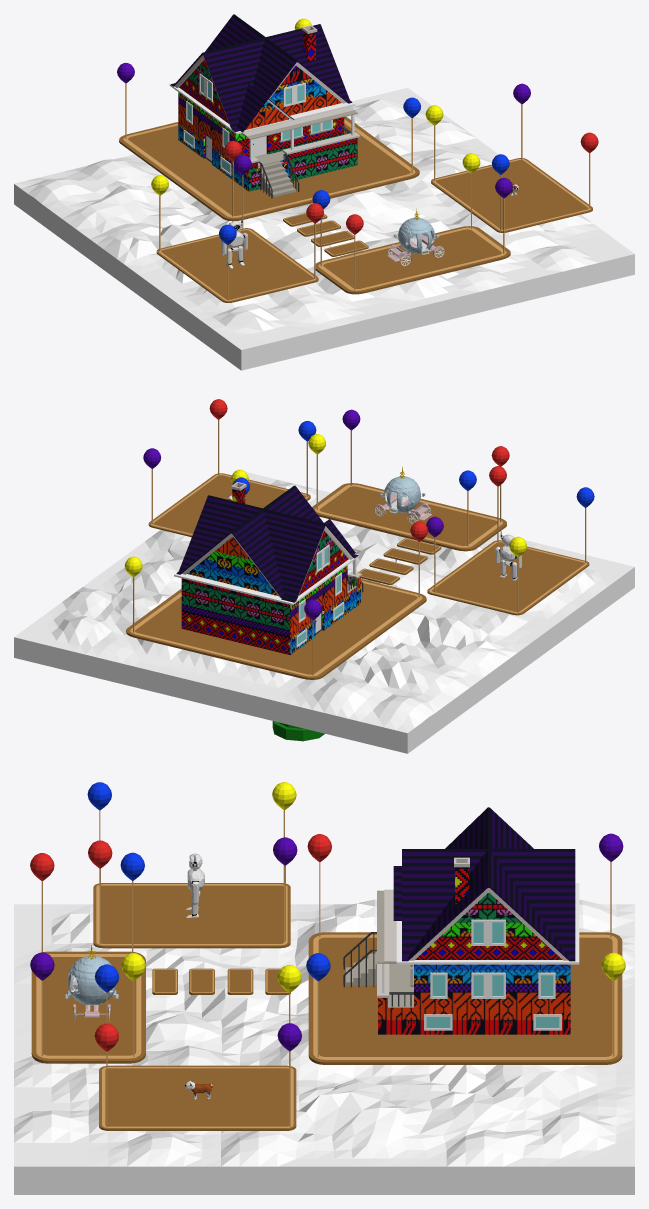
The picture shows the model from 3 angles, top to bottom: view 1: azimuth 30°, elevation 25°; view 2: azimuth 150°, elevation 25°; view 3: azimuth 270°, elevation 25°; orthographic projection. The views are drawn at different scales.
Parts seen in each view (by area): view 1: Cube.013, Cube.966, VEHICLES_FANTASY_CARRIAGE, OBJRANDOM_PLATZEEBOT; view 2: Cube.013, Cube.966, VEHICLES_FANTASY_CARRIAGE, OBJRANDOM_PLATZEEBOT, UNDERGROUND_PIPES; view 3: Cube.013, Cube.966, VEHICLES_FANTASY_CARRIAGE, OBJRANDOM_PLATZEEBOT.
Part boxes in pixels (<box>): Cube.013: <box>14,18,634,370</box>; Cube.966: <box>169,14,360,198</box>; VEHICLES_FANTASY_CARRIAGE: <box>387,208,444,266</box>; OBJRANDOM_PLATZEEBOT: <box>221,216,247,268</box>; Cube.013: <box>14,399,634,753</box>; Cube.966: <box>174,482,363,655</box>; VEHICLES_FANTASY_CARRIAGE: <box>374,467,431,524</box>; OBJRANDOM_PLATZEEBOT: <box>495,530,521,580</box>; UNDERGROUND_PIPES: <box>272,721,324,741</box>; Cube.013: <box>14,782,634,1194</box>; Cube.966: <box>343,807,579,1034</box>; VEHICLES_FANTASY_CARRIAGE: <box>65,945,118,1021</box>; OBJRANDOM_PLATZEEBOT: <box>186,853,204,918</box>.
Bounding box in the file's own units: 4000 × 2271 × 4000.
36 materials, 5 textured.
